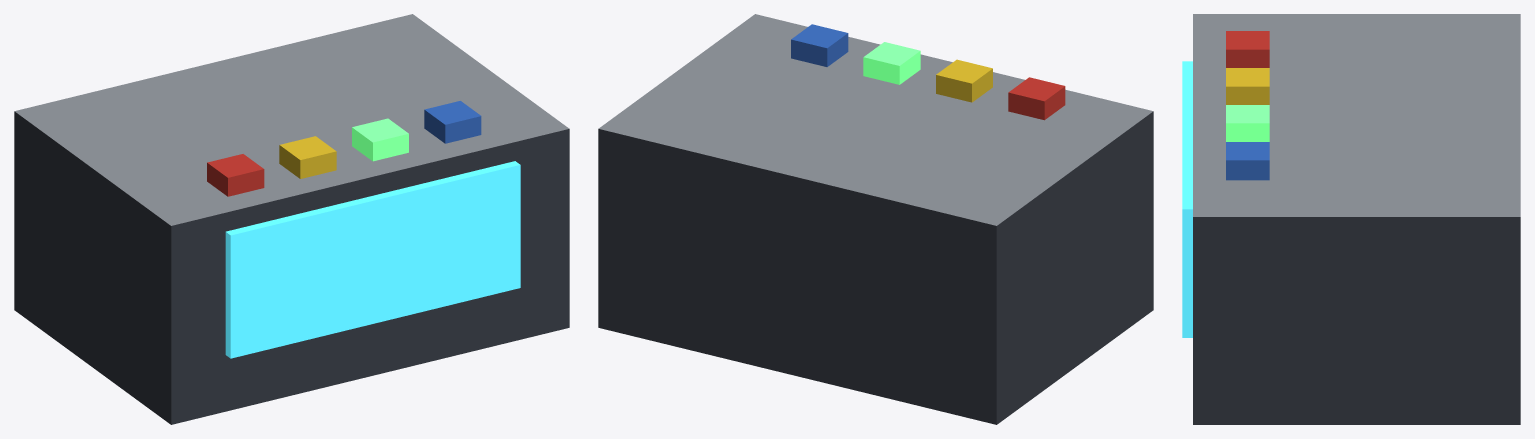
Rendered from item_control_module.glb.
The picture shows the model from 3 angles, left to right: view 1: azimuth 30°, elevation 25°; view 2: azimuth 150°, elevation 25°; view 3: azimuth 270°, elevation 25°; orthographic projection. The views are drawn at different scales.
Visible parts, largest first — view 1: item_control_module; view 2: item_control_module; view 3: item_control_module.
Part boxes in pixels (left/top/right/bottom): item_control_module: left=14, top=14, right=569, bottom=424; item_control_module: left=598, top=14, right=1153, bottom=424; item_control_module: left=1182, top=14, right=1520, bottom=424.
Bounding box in the file's own units: 0.88 × 0.46 × 0.62.
